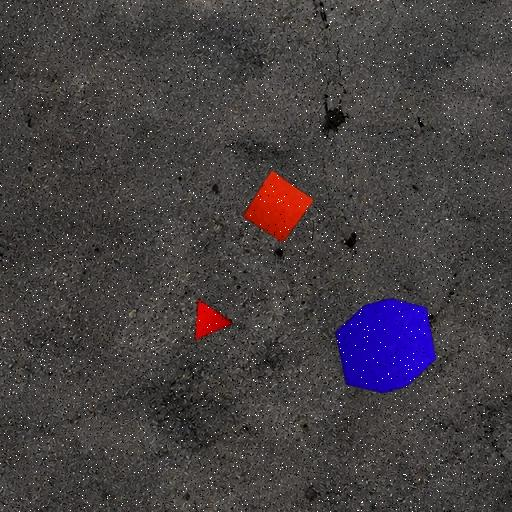RED_SQUARE: (242, 169, 315, 243)
